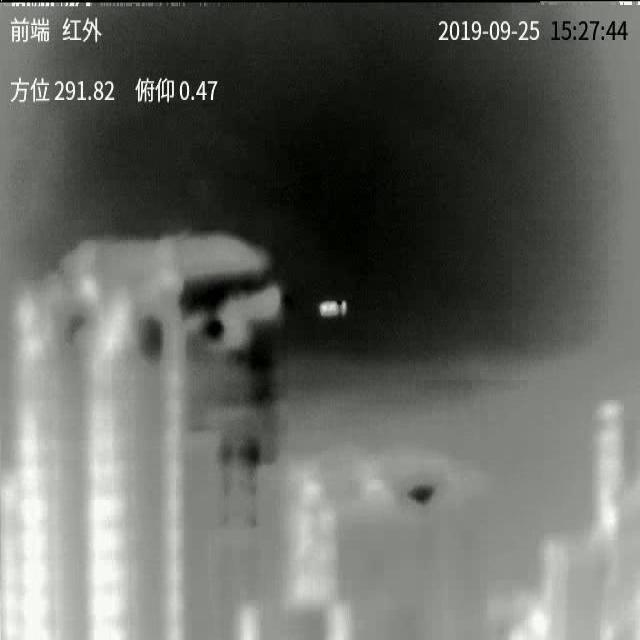drone: (319, 300, 348, 317)
